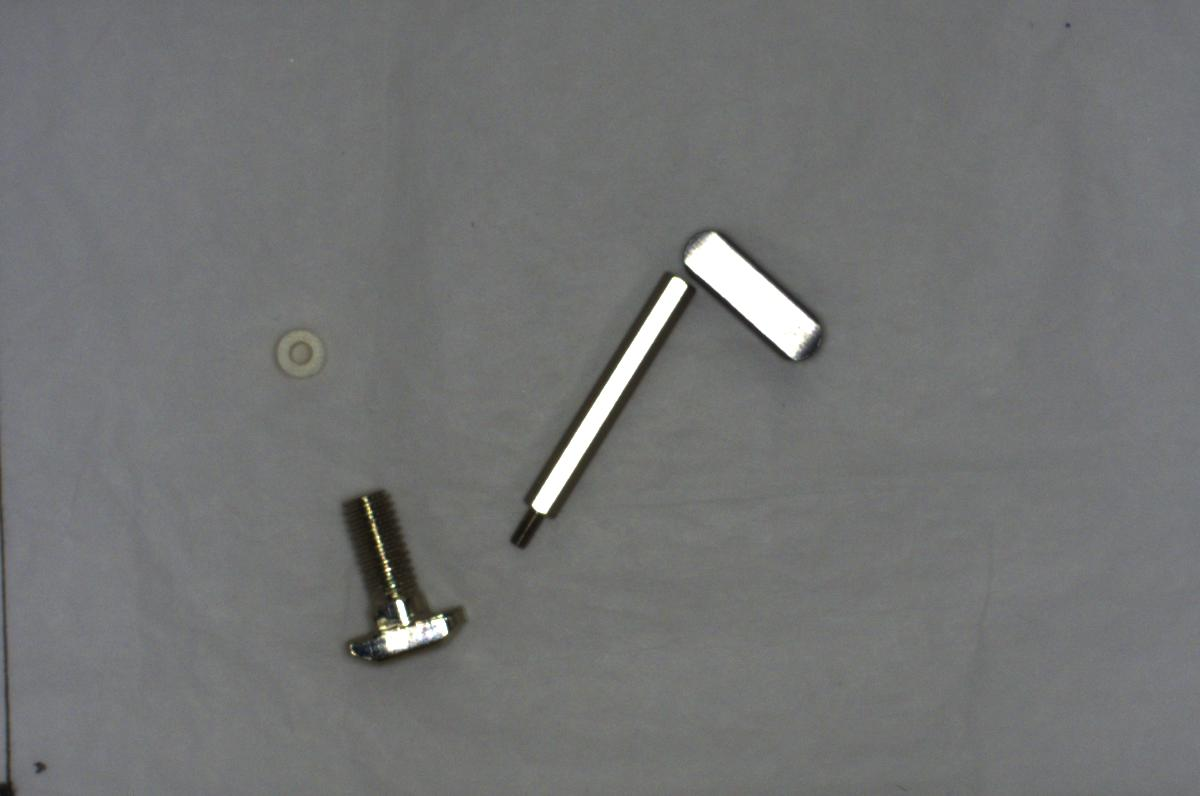Hexagonal steel column: (498, 262, 702, 552)
Keybar: (679, 225, 835, 370)
Plastic cushion pillar: (265, 320, 326, 387)
T-shaped screw: (325, 476, 478, 670)
